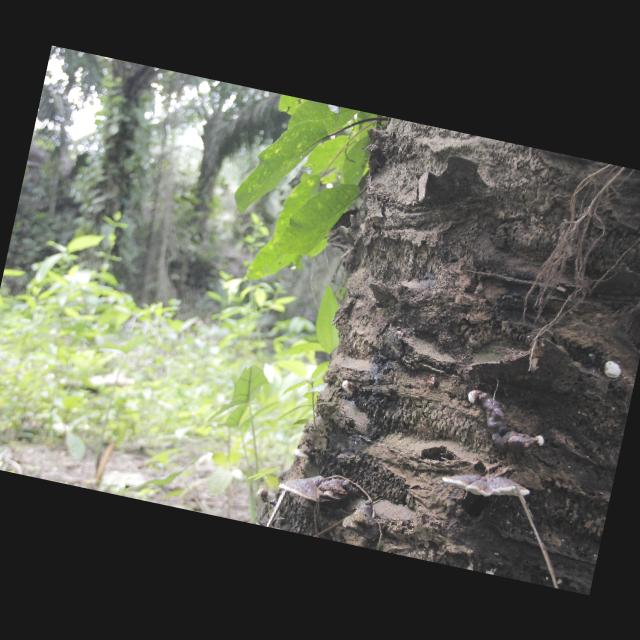ganoderma: (474, 391, 545, 457), (440, 465, 533, 507), (278, 469, 337, 507), (316, 476, 360, 506), (603, 361, 624, 381), (294, 448, 314, 462)
primordium: (340, 380, 359, 397), (467, 389, 483, 407), (256, 489, 271, 502), (534, 434, 546, 448)
